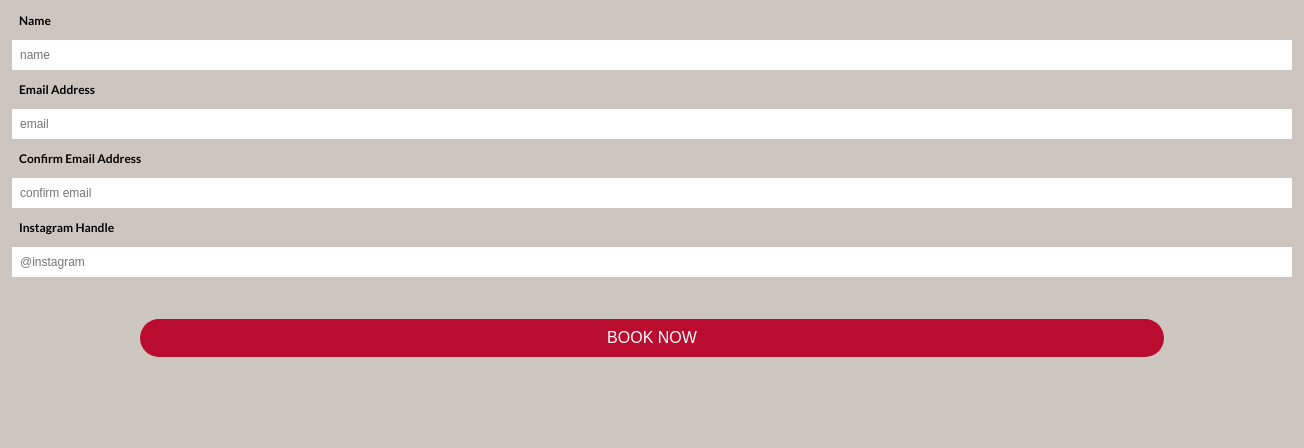
Test: AuthForm › Behavior › should display error message on submit with invalid email value
Type "smirnoff@@gmail" into the field with placeholder "Email" at [652, 124], box left=12, top=109, right=1292, bottom=139
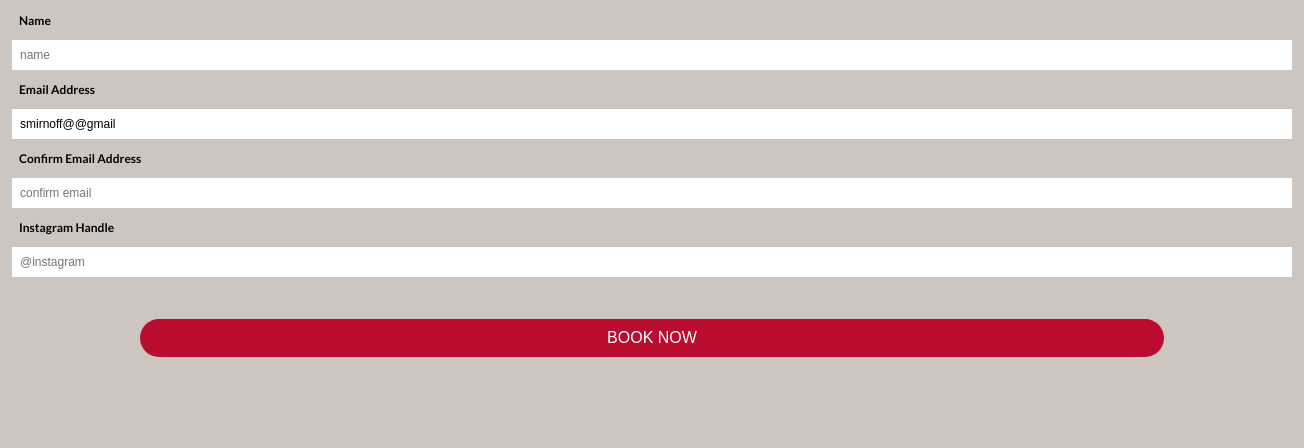
Click the button at [652, 338], box left=140, top=319, right=1164, bottom=357
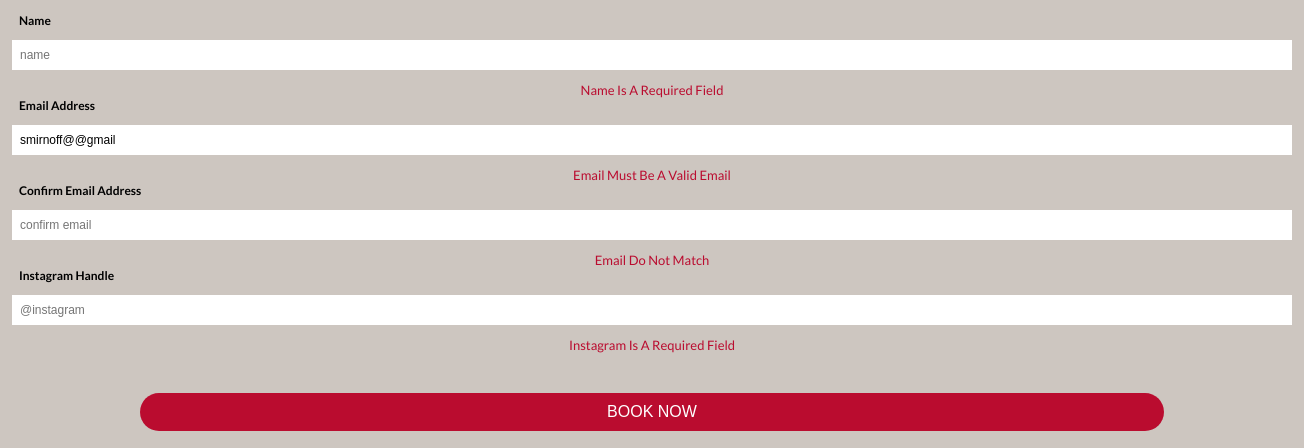
Expected: the message named "email-error" is shown, left=573, top=167, right=731, bottom=183
